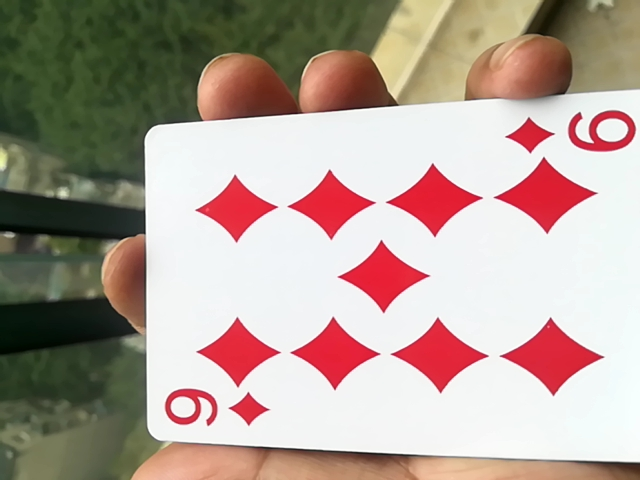fk 9: (126, 103, 638, 470)
